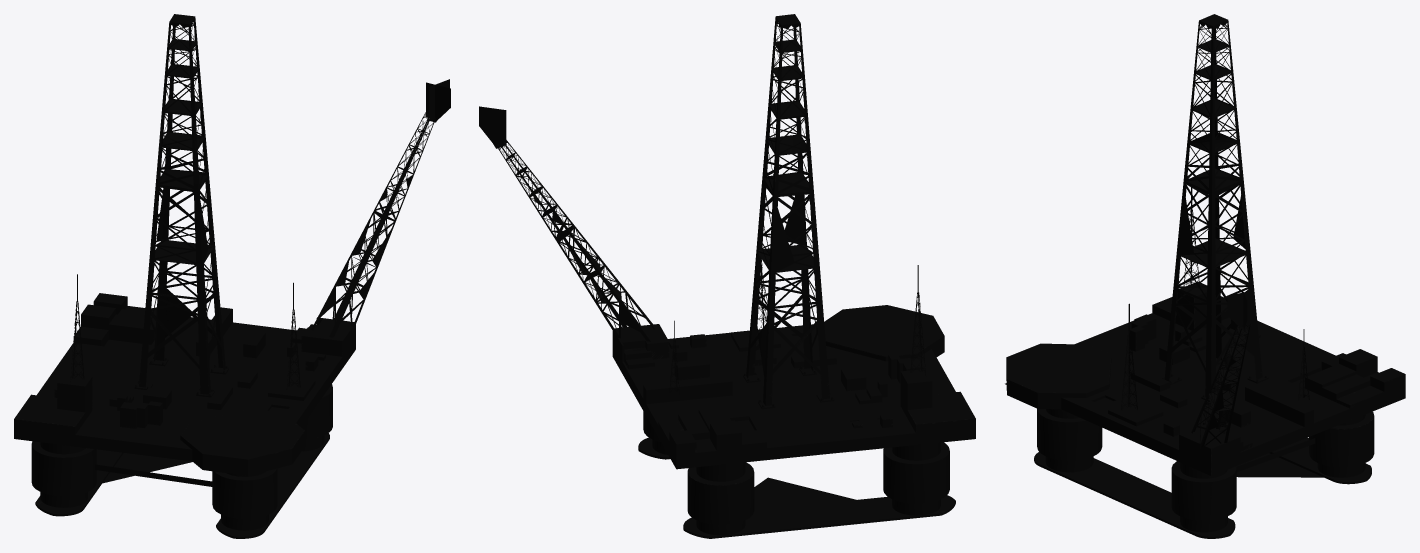
Rendered from PlatformRed.glb.
3 views of the same model, side by side, from view 1: azimuth 30°, elevation 25°; view 2: azimuth 150°, elevation 25°; view 3: azimuth 270°, elevation 25° (orthographic). The views are drawn at different scales.
Parts seen in each view (by area): view 1: node_id5; view 2: node_id5; view 3: node_id5.
Boxes of the visible parts, box(x1,y1,x2,y2) form: node_id5: box(14, 14, 450, 538); node_id5: box(479, 14, 975, 538); node_id5: box(1005, 14, 1405, 538).
Size of the model in its own units: 0.512 by 0.4766 by 0.3861.
Materials: 1 (1 with a texture image).
